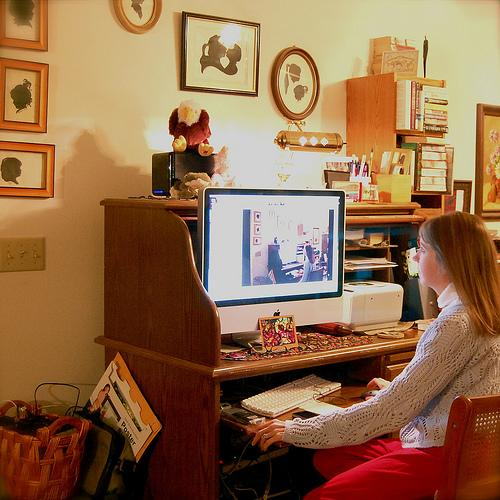person: (246, 210, 500, 500)
